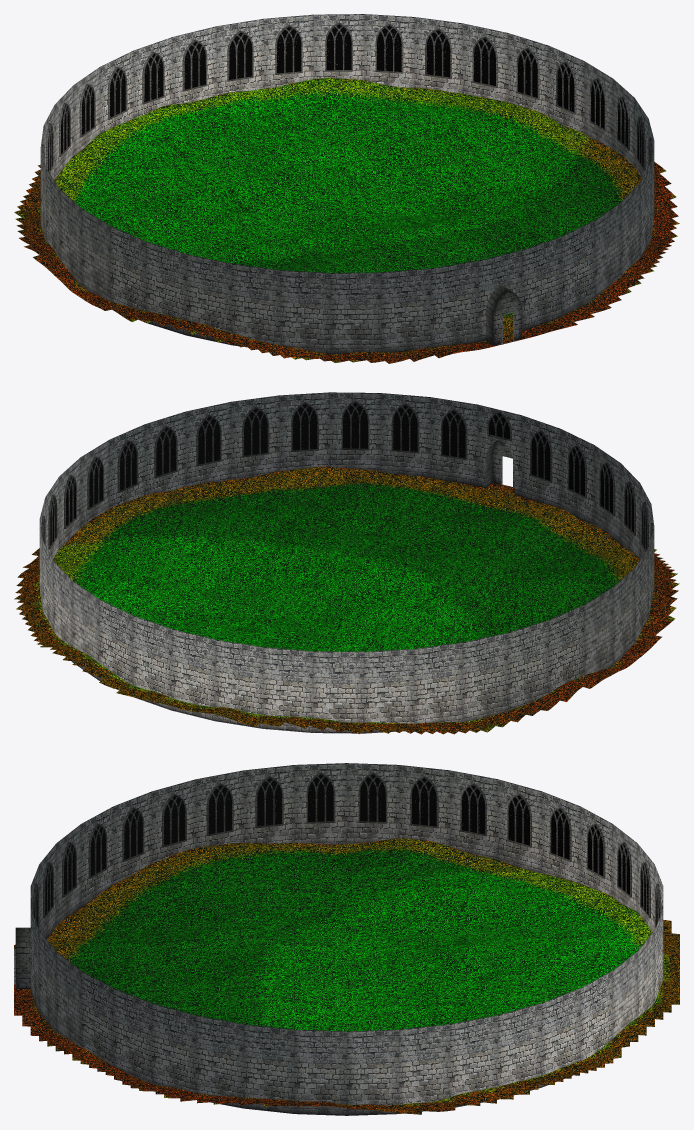
Rendered from courtyard.glb.
3 views of the same model, one above another, from view 1: azimuth 30°, elevation 25°; view 2: azimuth 150°, elevation 25°; view 3: azimuth 270°, elevation 25° (orthographic). The views are drawn at different scales.
Visible parts, largest first — view 1: ground.001, The Wall; view 2: The Wall, ground.001; view 3: The Wall, ground.001.
Boxes of the visible parts, left/top/right/bottom form: ground.001: left=14, top=78, right=679, bottom=363; The Wall: left=40, top=14, right=654, bottom=354; The Wall: left=39, top=392, right=654, bottom=733; ground.001: left=14, top=466, right=679, bottom=734; The Wall: left=14, top=763, right=663, bottom=1115; ground.001: left=14, top=838, right=679, bottom=1114.
Size of what is drawn, in the model's own units: 40 by 6.05 by 40.
3 materials, 3 textured.
